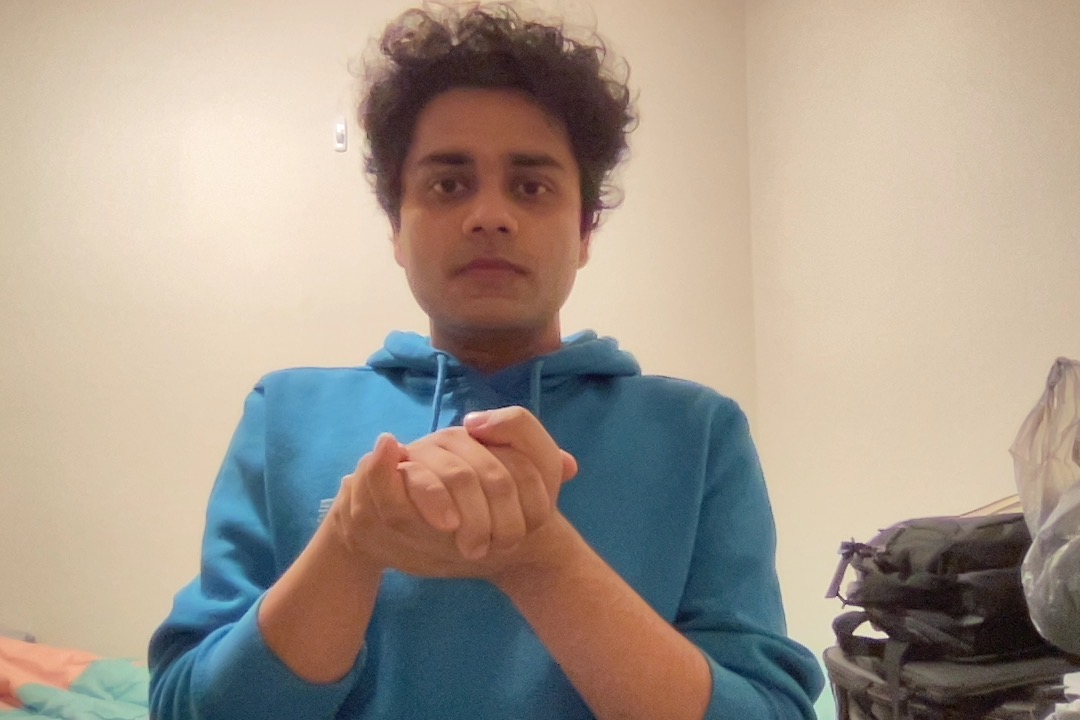Marriage: (301, 385, 612, 621)
